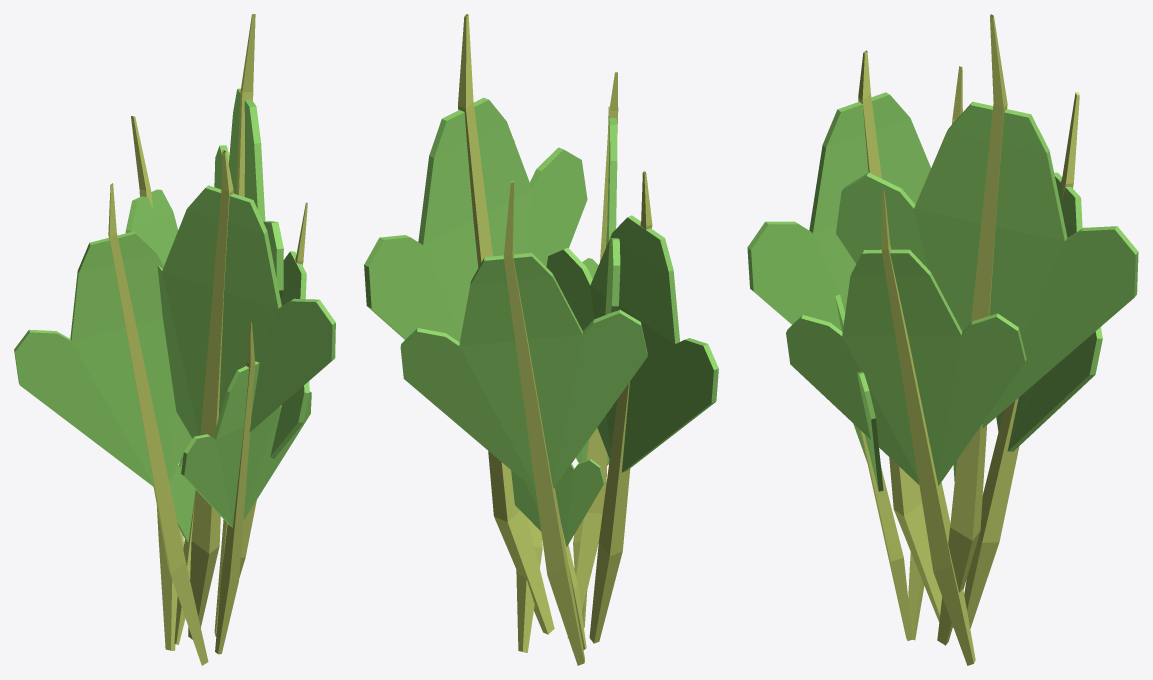
File: Carrot_3.fbx
3 renders of one model, left to right at view 1: azimuth 30°, elevation 25°; view 2: azimuth 150°, elevation 25°; view 3: azimuth 270°, elevation 25°, orthographic. The views are drawn at different scales.
Visible parts, largest first — view 1: 3_Carrot; view 2: 3_Carrot; view 3: 3_Carrot.
Part boxes in pixels (bbox=[...]): 3_Carrot: bbox=[14, 14, 335, 665]; 3_Carrot: bbox=[364, 14, 718, 665]; 3_Carrot: bbox=[747, 14, 1138, 665].
Size of the model in its own units: 12.96 by 27.5 by 14.44.
